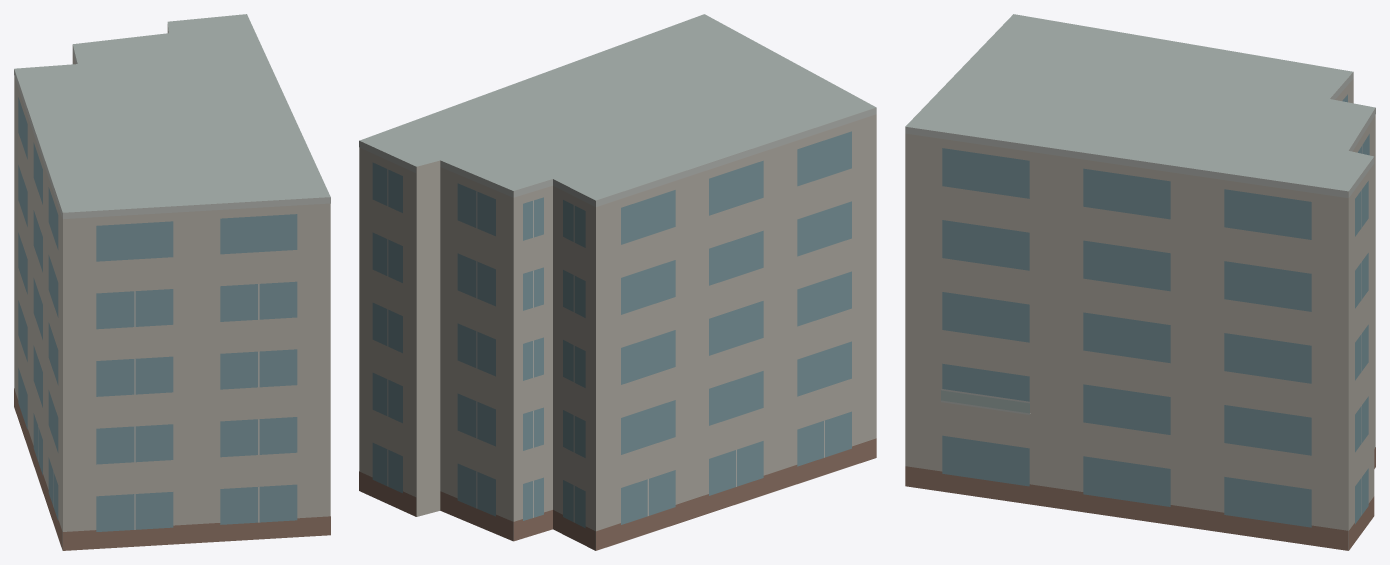
Rendered from survey-upis-32808603.glb.
The picture shows the model from 3 angles, left to right: view 1: azimuth 30°, elevation 25°; view 2: azimuth 150°, elevation 25°; view 3: azimuth 270°, elevation 25°; orthographic projection. The views are drawn at different scales.
Parts seen in each view (by area): view 1: survey-upis-32808603.tmp; view 2: survey-upis-32808603.tmp; view 3: survey-upis-32808603.tmp.
Boxes of the visible parts, bbox=[...] form: survey-upis-32808603.tmp: bbox=[14, 14, 330, 550]; survey-upis-32808603.tmp: bbox=[359, 14, 876, 550]; survey-upis-32808603.tmp: bbox=[905, 14, 1375, 550].
Bounding box in the file's own units: 13.62 × 12.86 × 15.26.
